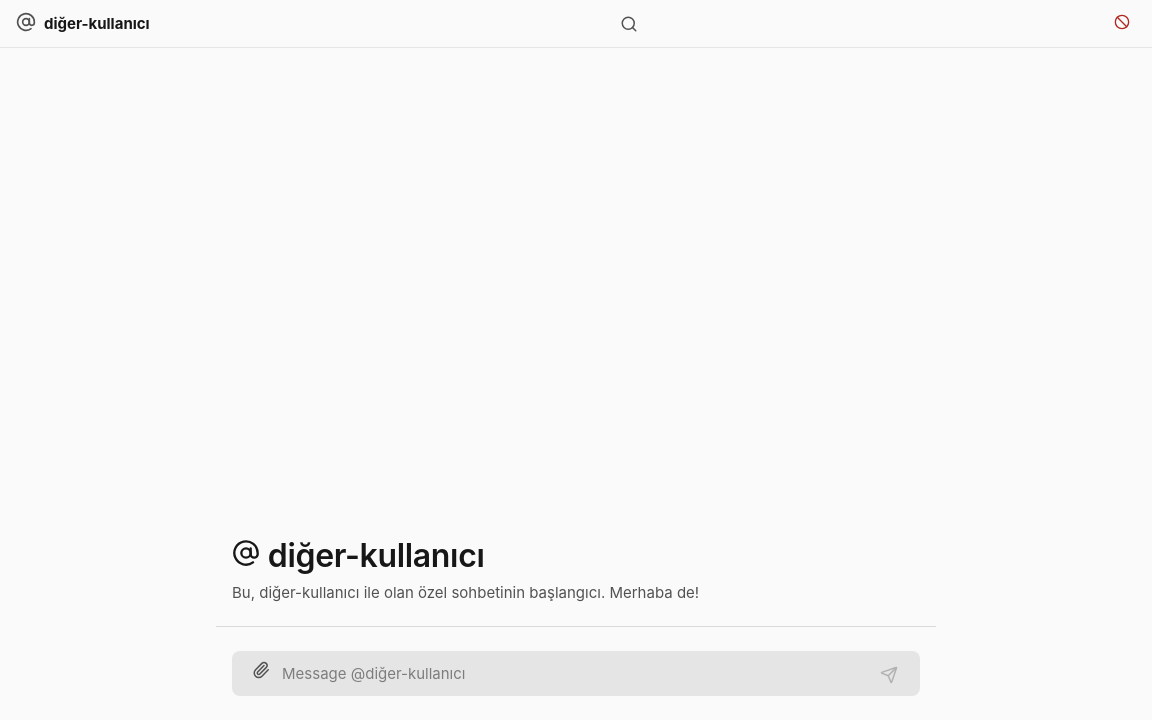
Test: DMChatView — arama çubuğu aç/kapa › arama ikonuna tıklayınca input açılır
Click the button named "Mesajlarda ara".
click(629, 24)  # box 614,8 -> 644,38
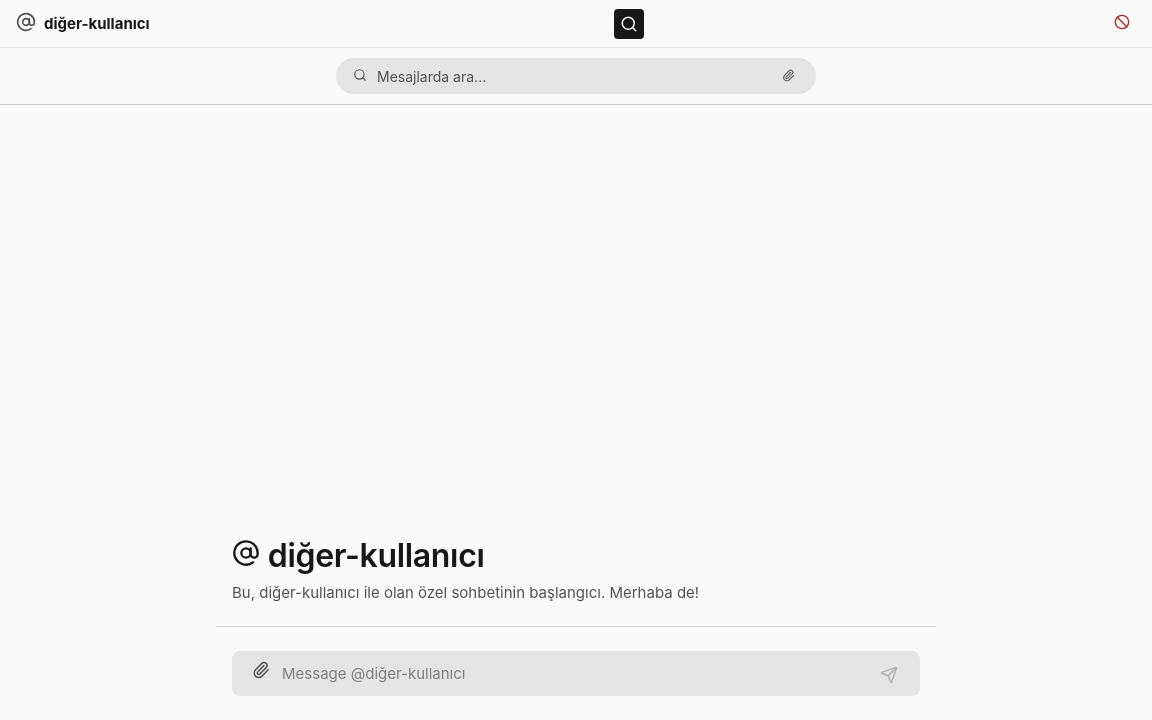
Expected: the field with placeholder "Mesajlarda ara..." is shown, 375,66 -> 770,86
